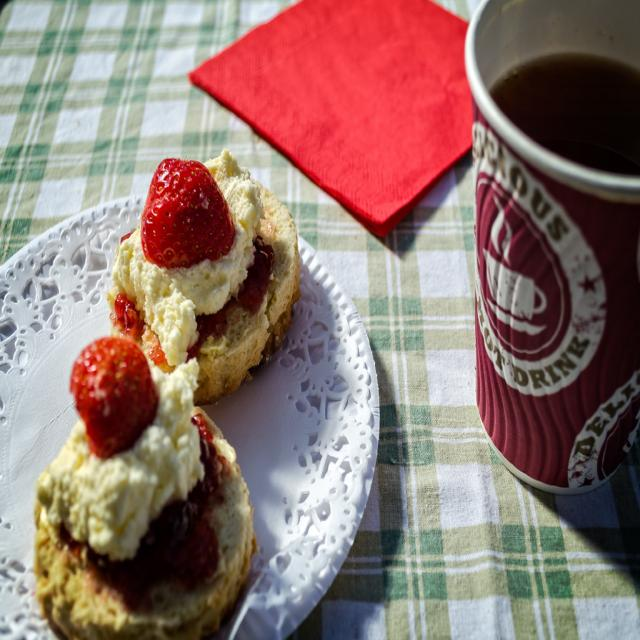Tea: (473, 0, 639, 472), (488, 53, 638, 179)
